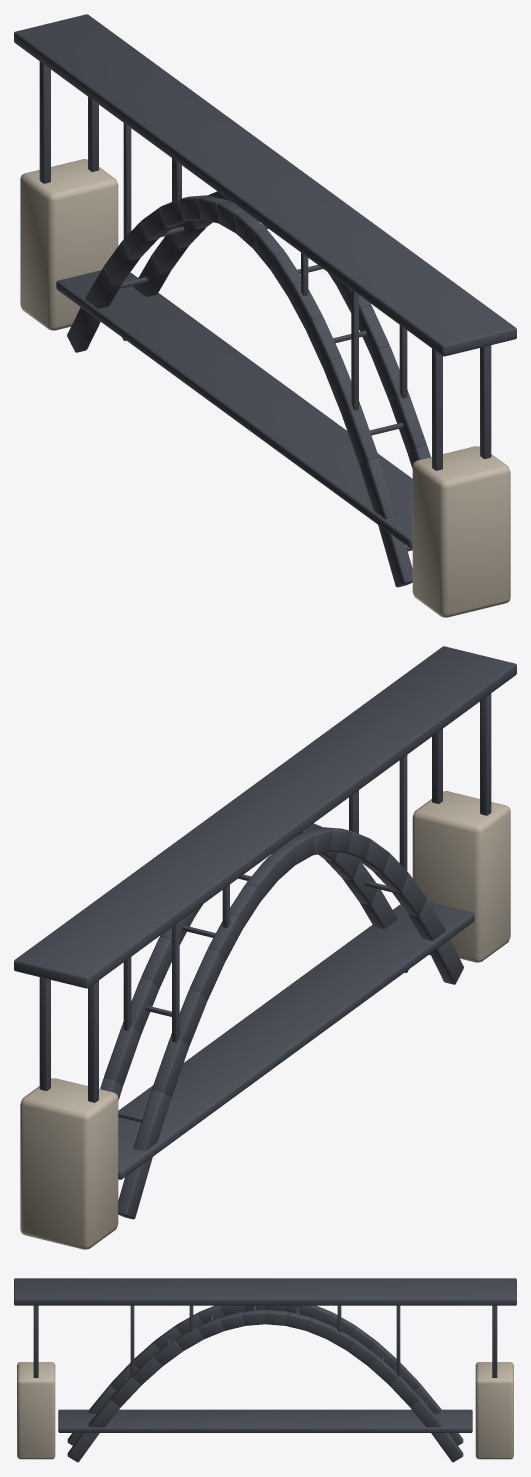
The model's file is dom-luis.glb.
The picture shows the model from 3 angles, top to bottom: view 1: azimuth 30°, elevation 25°; view 2: azimuth 150°, elevation 25°; view 3: azimuth 270°, elevation 25°; orthographic projection. The views are drawn at different scales.
Visible parts, largest first — view 1: dom-luis; view 2: dom-luis; view 3: dom-luis.
Boxes of the visible parts, <box> form: dom-luis: <box>14,14,516,617</box>; dom-luis: <box>14,646,516,1249</box>; dom-luis: <box>14,1278,516,1462</box>.
Bounding box in the file's own units: 3.4 × 12.36 × 34.
